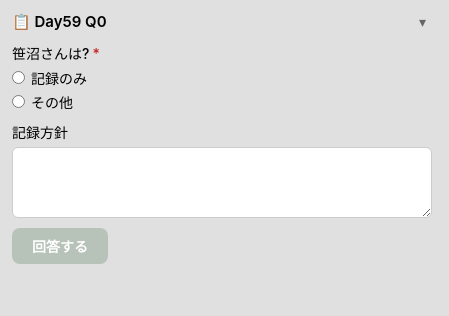
Test: FormBubble › allow_text 付き option 選択で補足欄が出る
The width and height of the screenshot is (449, 316).
Expected: the field with placeholder "補足" is not shown
Click the radio button labelled "その他": (18, 102) [12,95,25,108]
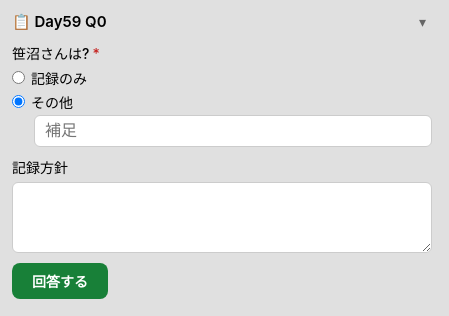
Now the field with placeholder "補足" is shown, box [34,115,432,147]
